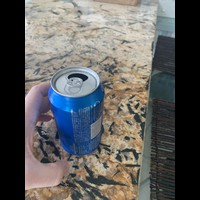tonica: (48, 63, 107, 160)
